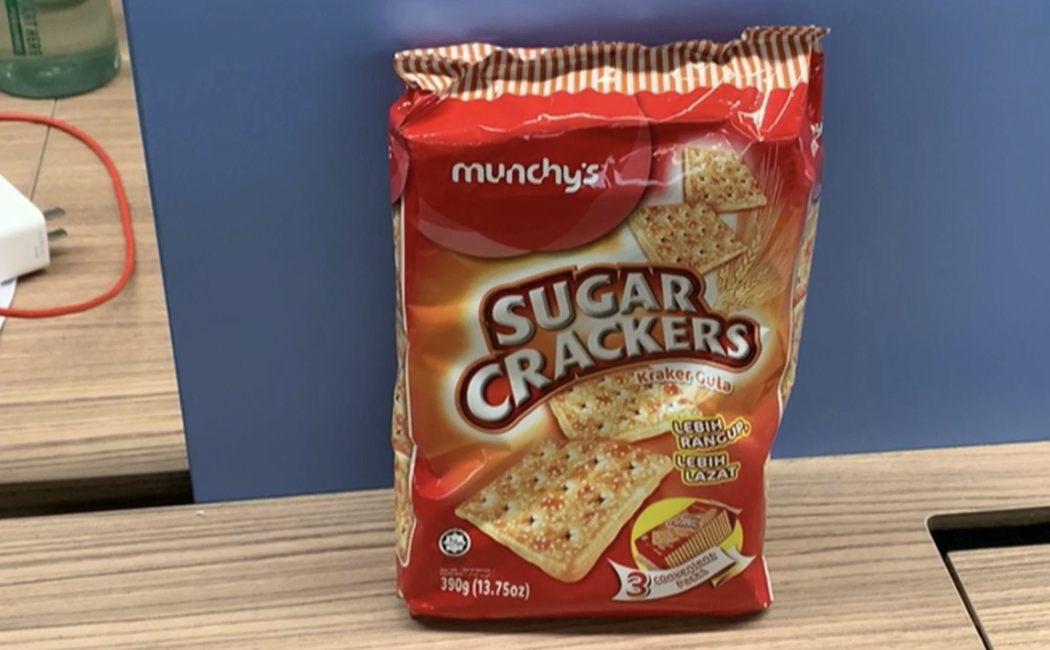crackers_300g-399g: (413, 130, 761, 595)
